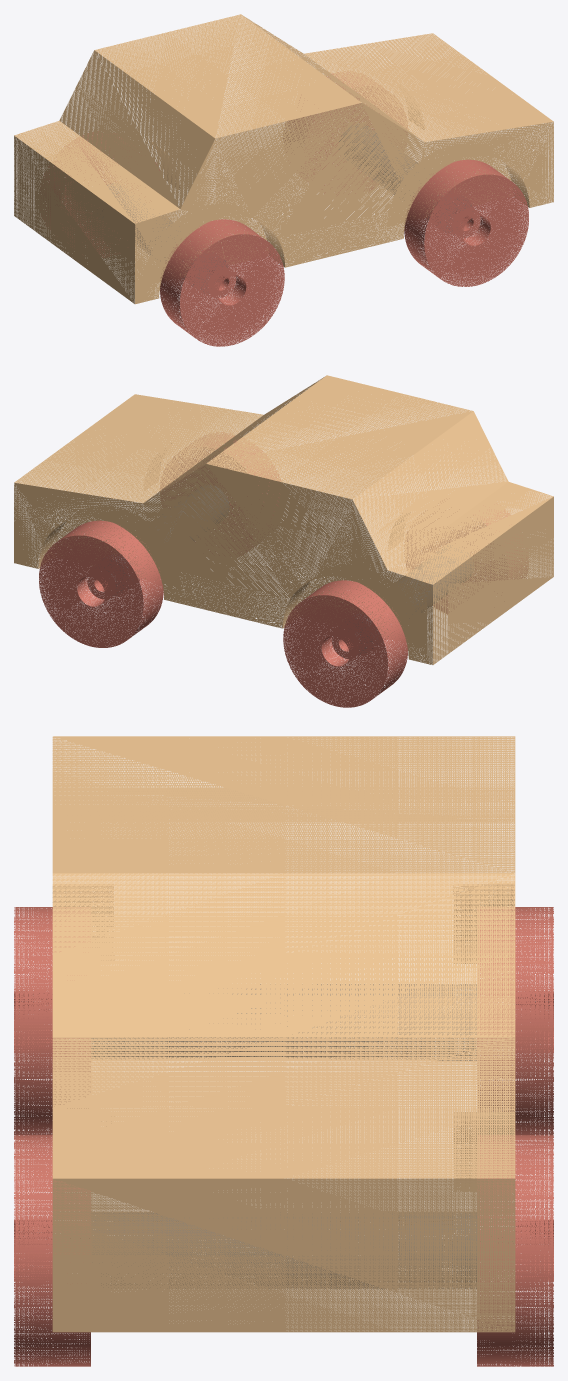
The model's file is car.gltf.
3 views of the same model, one above another, from view 1: azimuth 30°, elevation 25°; view 2: azimuth 150°, elevation 25°; view 3: azimuth 270°, elevation 25° (orthographic). The views are drawn at different scales.
Parts seen in each view (by area): view 1: car.chassis, car.rear_axle.left_wheel, car.front_axle.left_wheel, car.front_axle.right_wheel, car.front_axle.axle, car.rear_axle.right_wheel; view 2: car.chassis, car.front_axle.right_wheel, car.rear_axle.right_wheel, car.front_axle.left_wheel, car.rear_axle.left_wheel, car.rear_axle.axle; view 3: car.chassis, car.front_axle.right_wheel, car.rear_axle.right_wheel, car.front_axle.left_wheel, car.rear_axle.left_wheel, car.rear_axle.axle, car.front_axle.axle.
Boxes of the visible parts, x1,y1,x2,y2 form: car.chassis: (14,14,553,304); car.rear_axle.left_wheel: (160,219,284,346); car.front_axle.left_wheel: (404,159,528,286); car.front_axle.right_wheel: (283,72,407,195); car.front_axle.axle: (339,124,471,234); car.rear_axle.right_wheel: (40,131,159,257); car.chassis: (14,375,553,664); car.front_axle.right_wheel: (39,520,163,647); car.rear_axle.right_wheel: (283,580,407,707); car.front_axle.left_wheel: (160,433,280,555); car.rear_axle.left_wheel: (406,510,527,613); car.rear_axle.axle: (347,549,471,653); car.chassis: (52,736,515,1332); car.front_axle.right_wheel: (477,1135,553,1366); car.rear_axle.right_wheel: (477,907,553,1137); car.front_axle.left_wheel: (14,1135,90,1366); car.rear_axle.left_wheel: (14,907,90,1137); car.rear_axle.axle: (91,984,476,1060); car.front_axle.axle: (94,1213,476,1289).
Size of the model in its own units: 0.12 by 0.055 by 0.07.
